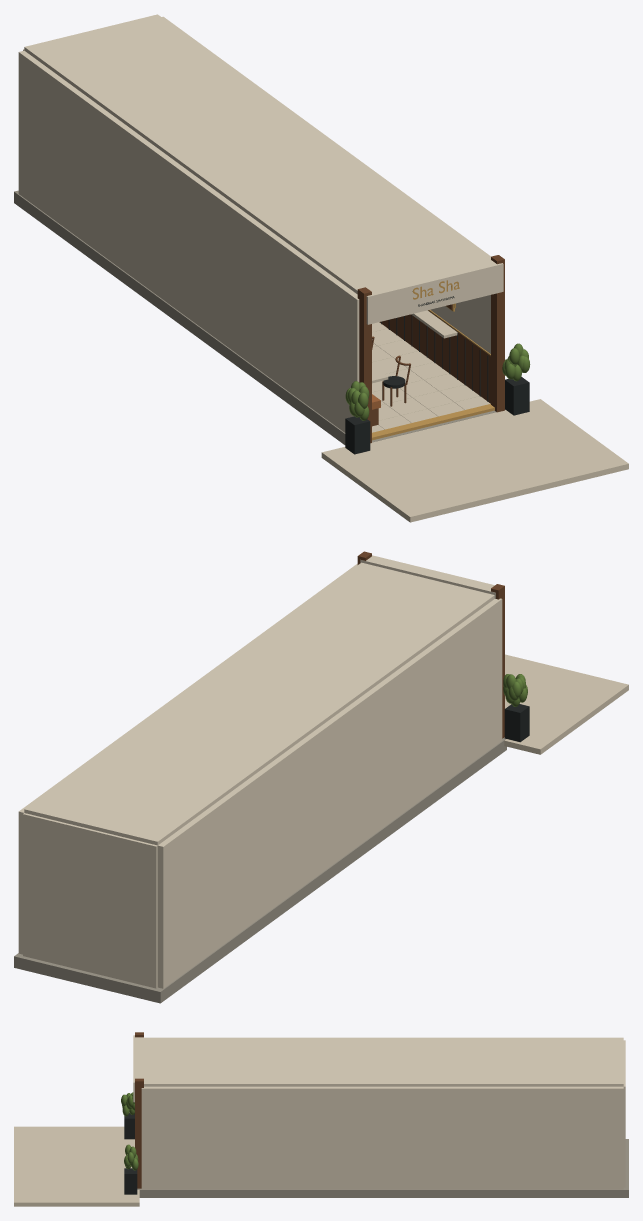
The model's file is heritage-a.glb.
The picture shows the model from 3 angles, top to bottom: view 1: azimuth 30°, elevation 25°; view 2: azimuth 150°, elevation 25°; view 3: azimuth 270°, elevation 25°; orthographic projection. The views are drawn at different scales.
Parts seen in each view (by area): view 1: Wall shell, Ceiling, Pavement, Facade signboard, Foundation, Walnut wainscot.001, Wall shell.001, Facade jamb.001, Facade jamb, Entrance threshold, Outdoor planter, Outdoor planter.001; view 2: Wall shell, Ceiling, Rear wall, Foundation, Pavement, Wall shell.001, Facade signboard, Outdoor planter; view 3: Wall shell.001, Ceiling, Pavement, Foundation, Facade jamb.001, Facade signboard, Rear wall, Outdoor planter.001, Outdoor planter.
Part boxes in pixels (<box>): Wall shell: <box>18,50,359,432</box>; Ceiling: <box>24,14,490,294</box>; Pavement: <box>321,399,628,522</box>; Facade signboard: <box>366,259,503,324</box>; Foundation: <box>14,190,505,444</box>; Walnut wainscot.001: <box>379,310,490,403</box>; Wall shell.001: <box>162,16,490,353</box>; Facade jamb.001: <box>491,255,504,412</box>; Facade jamb: <box>357,287,371,443</box>; Entrance threshold: <box>372,404,494,440</box>; Outdoor planter: <box>345,416,370,454</box>; Outdoor planter.001: <box>505,377,529,415</box>; Wall shell: <box>157,598,502,988</box>; Ceiling: <box>24,562,494,845</box>; Rear wall: <box>23,813,157,988</box>; Foundation: <box>14,738,506,1003</box>; Pavement: <box>504,654,628,754</box>; Wall shell.001: <box>18,563,357,954</box>; Facade signboard: <box>360,555,495,598</box>; Outdoor planter: <box>504,704,529,742</box>; Wall shell.001: <box>141,1086,623,1189</box>; Ceiling: <box>144,1037,623,1086</box>; Pavement: <box>14,1126,139,1206</box>; Foundation: <box>137,1139,628,1197</box>; Facade jamb.001: <box>135,1078,143,1188</box>; Facade signboard: <box>133,1035,143,1102</box>; Rear wall: <box>623,1040,625,1187</box>; Outdoor planter.001: <box>124,1168,137,1194</box>; Outdoor planter: <box>124,1113,134,1139</box>.
Size of the model in its own units: 5 by 3.55 by 17.11.
